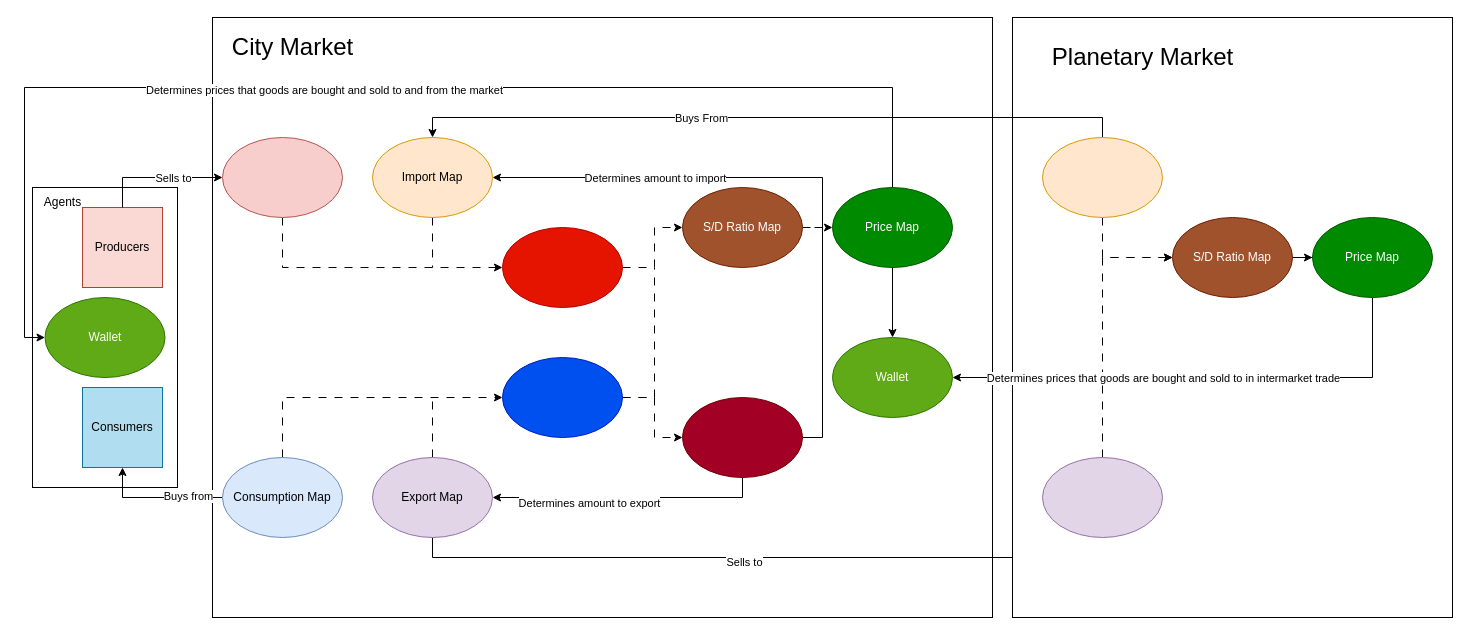
Image size: 1470x635. Some labels were removed from this diagram. The centre of each missing label's shape, as x and y in pixels:
Demand Map: the point at 562,397
Exports: the point at 1102,177
Imports: the point at 1102,497
Production Map: the point at 282,177
S/D Difference Map: the point at 742,437
Supply Map: the point at 562,267
